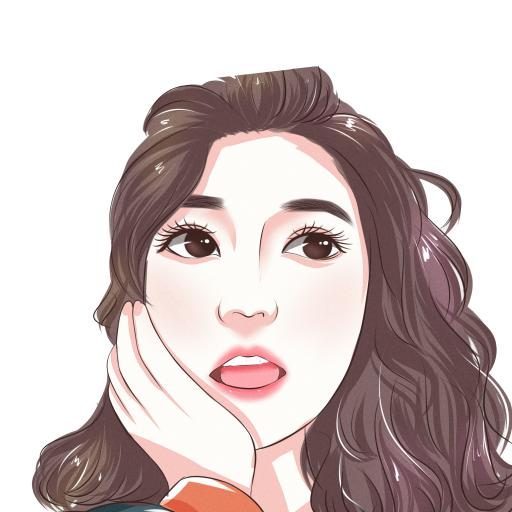NoHuman: (0, 8, 512, 512)
